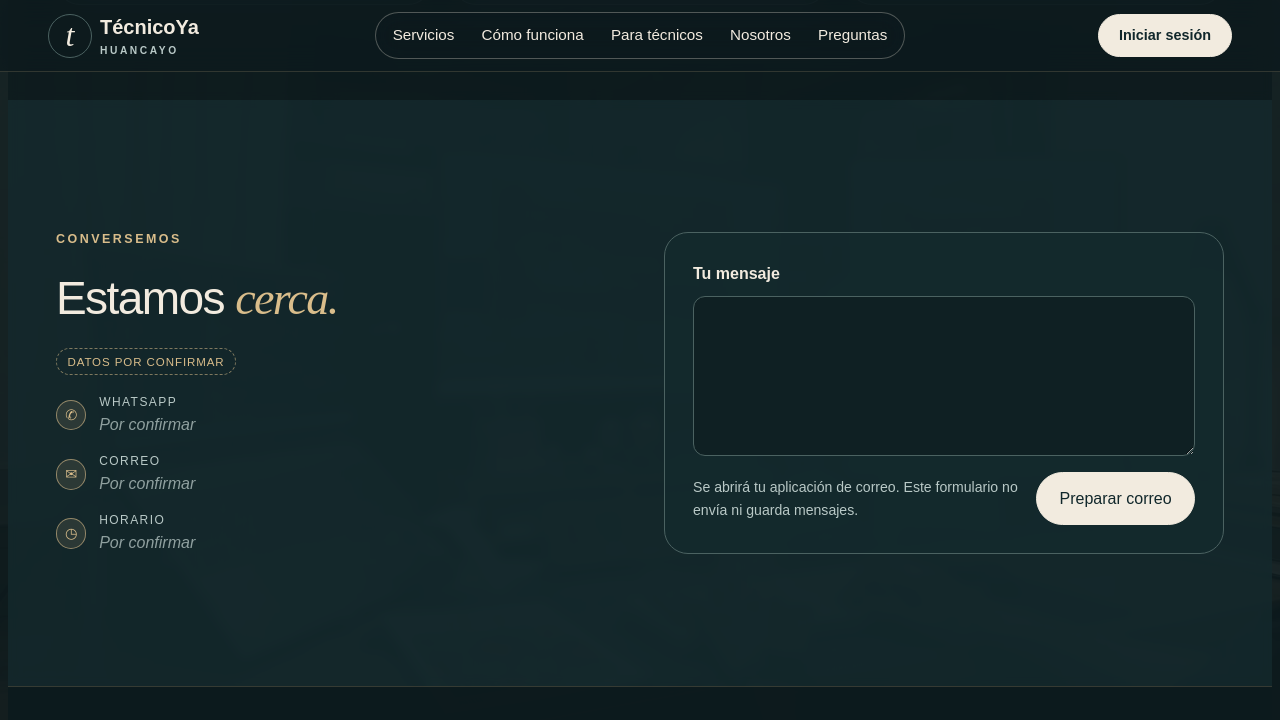
Test: S02-TC-089 rediseño: contacto sin destinatario no simula envío
(page scrolled)
Type "Necesito información" into the text box labelled "Tu mensaje" at (944, 376), box [693,296,1195,456]
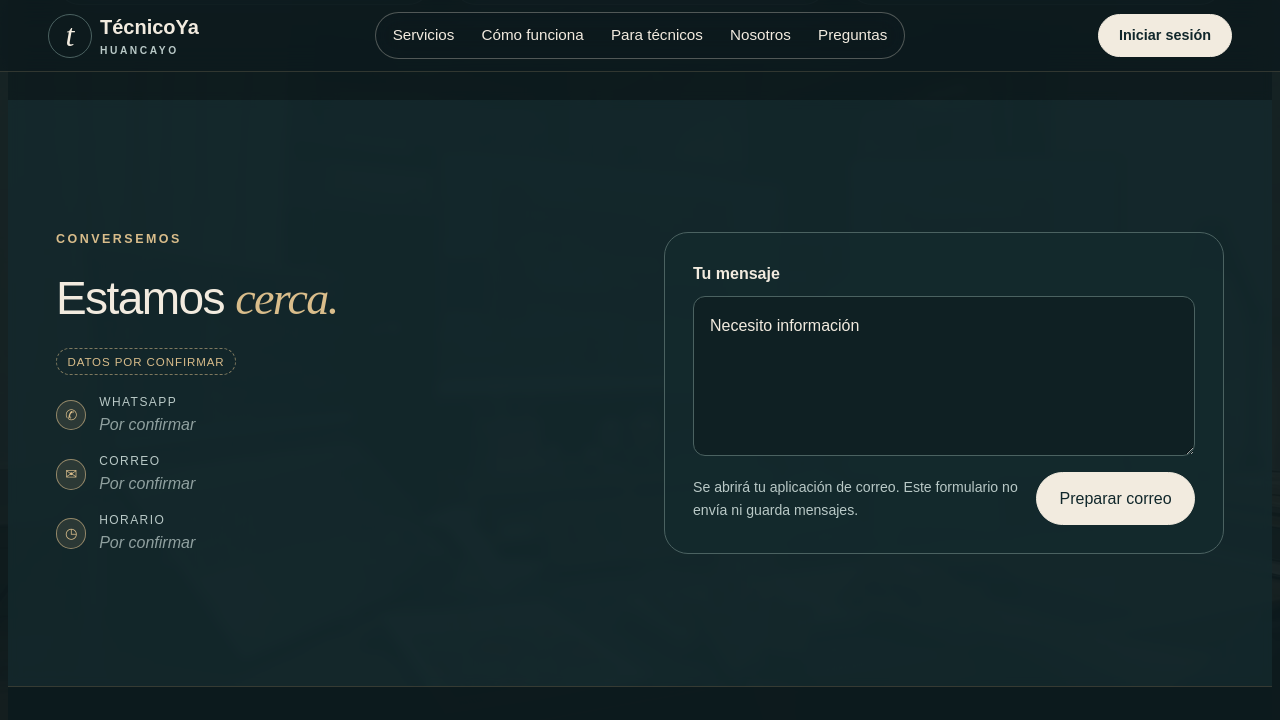
Click the button "Preparar correo" at (1116, 498), box [1036,472,1195,525]
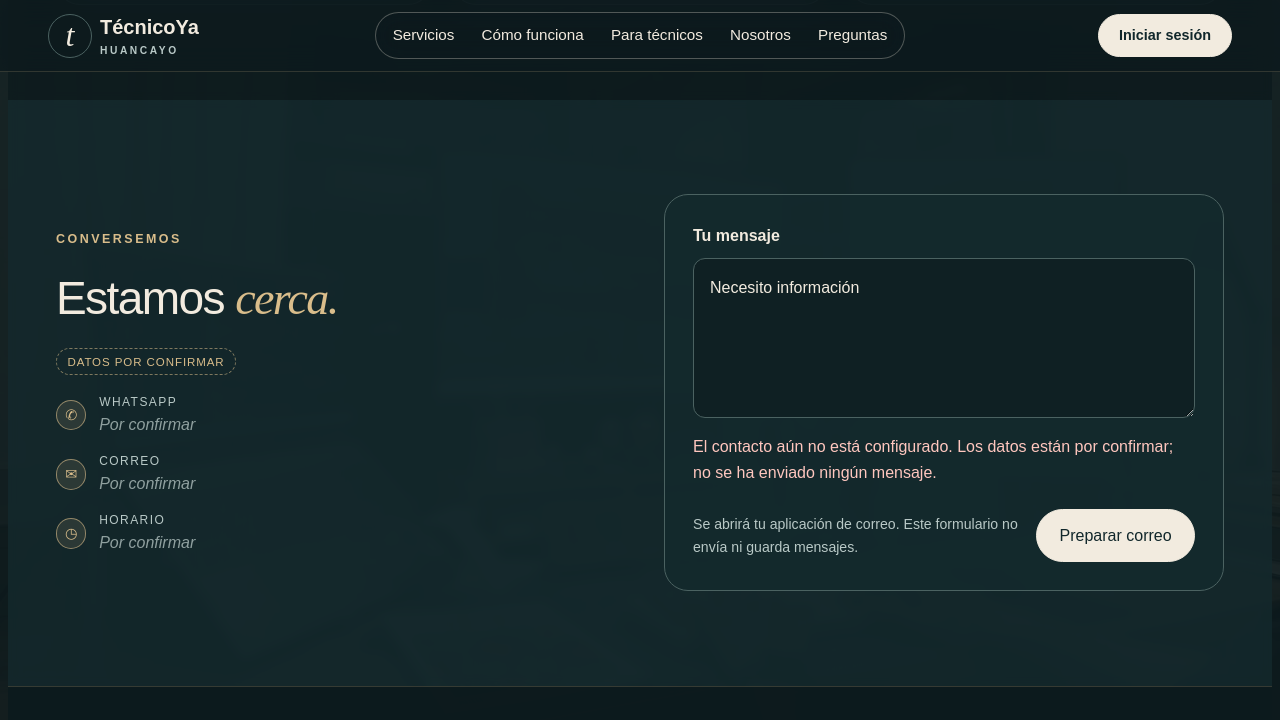
Result: the message shows "contacto aún no está configurado" at [693,438,1173,480]
